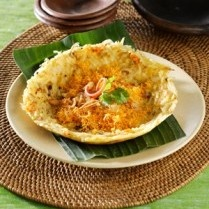kerak_telor: (21, 40, 179, 145)
